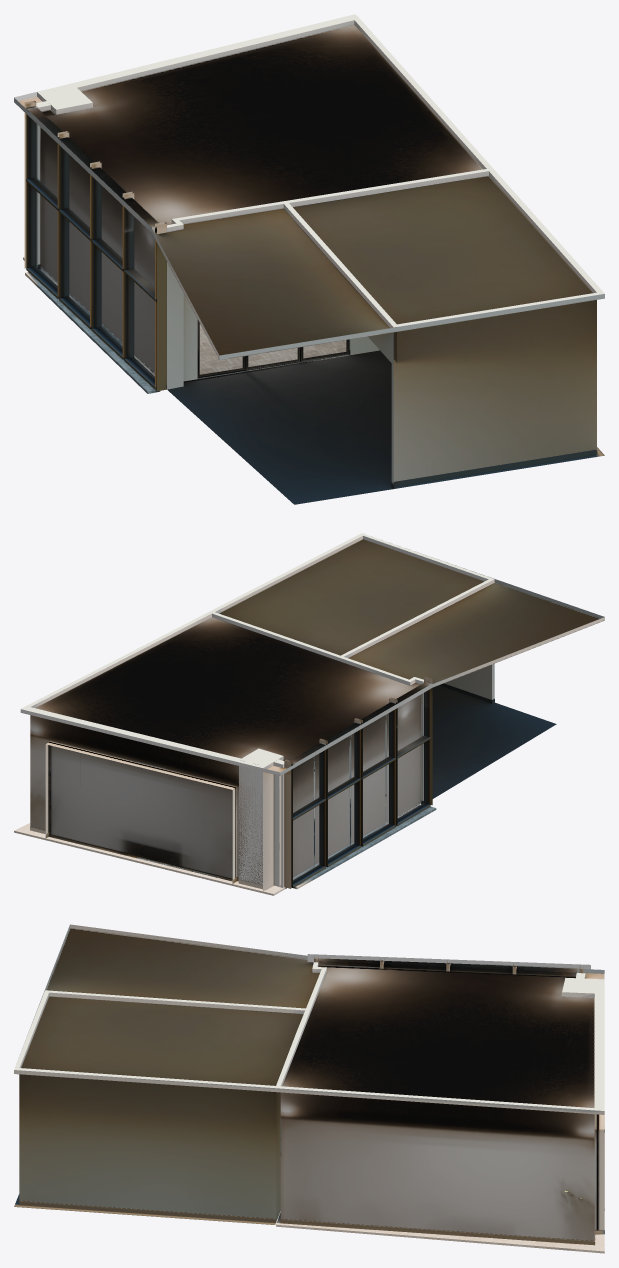
File: OFFICEMaterial-v2.glb
3 views of the same model, one above another, from view 1: azimuth 30°, elevation 25°; view 2: azimuth 150°, elevation 25°; view 3: azimuth 270°, elevation 25° (orthographic). The views are drawn at different scales.
Parts seen in each view (by area): view 1: Flooring, Curtains; view 2: Flooring, Curtains; view 3: Flooring, Glass_For_Facade.
Part boxes in pixels (x1=…): Flooring: x1=14, y1=14, x2=604, y2=504; Curtains: x1=40, y1=127, x2=154, y2=372; Flooring: x1=14, y1=533, x2=604, y2=895; Curtains: x1=279, y1=694, x2=421, y2=885; Flooring: x1=14, y1=924, x2=604, y2=1253; Glass_For_Facade: x1=307, y1=954, x2=590, y2=969.
Size of the model in its own units: 10.13 by 3.55 by 13.31.
1 material, 1 textured.
